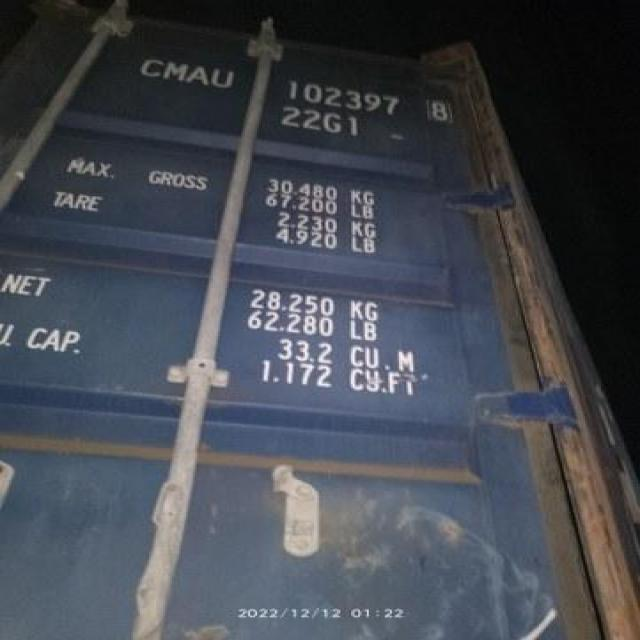container_number_h: (109, 33, 494, 157)
